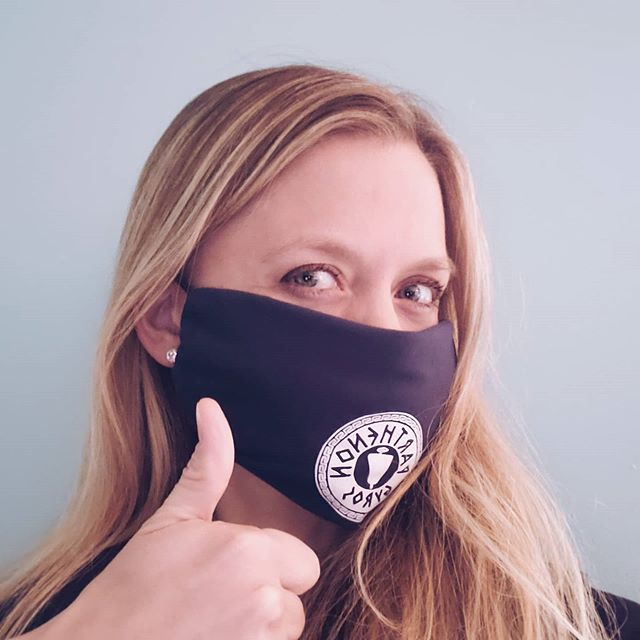homemade: (162, 279, 473, 531)
